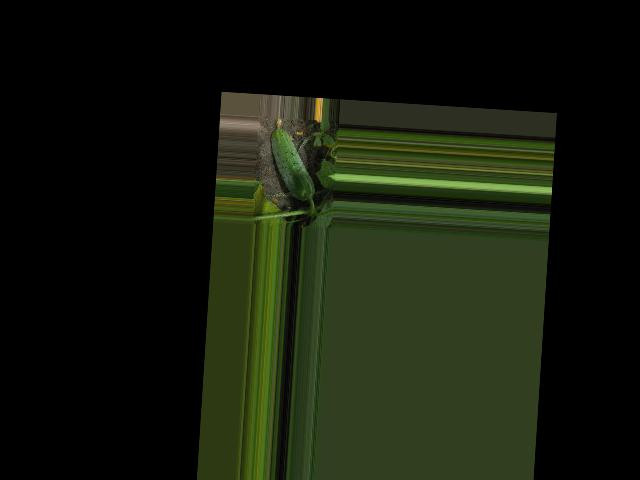cucumber: (266, 117, 319, 201)
